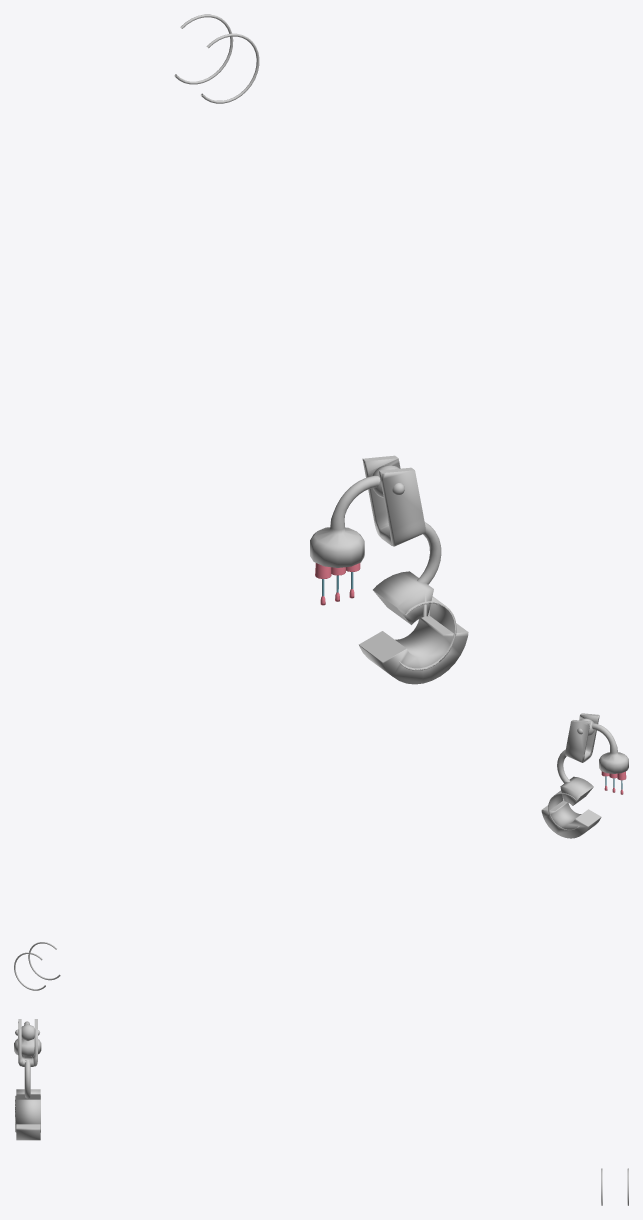
Rendered from oje_tool-3lu-vol2.obj.
3 views of the same model, one above another, from view 1: azimuth 30°, elevation 25°; view 2: azimuth 150°, elevation 25°; view 3: azimuth 270°, elevation 25° (orthographic). The views are drawn at different scales.
Visible parts, largest first — view 1: Circle.016_Red_Elementscart.001, Circle.016_shiny1; view 2: Circle.016_Red_Elementscart.001, Circle.016_shiny1; view 3: Circle.016_Red_Elementscart.001, Circle.016_shiny1.
Boxes of the visible parts, <box> form: Circle.016_Red_Elementscart.001: <box>310,455,468,684</box>; Circle.016_shiny1: <box>310,465,456,670</box>; Circle.016_Red_Elementscart.001: <box>541,713,628,838</box>; Circle.016_shiny1: <box>548,718,628,830</box>; Circle.016_Red_Elementscart.001: <box>14,1019,40,1140</box>; Circle.016_shiny1: <box>14,1021,41,1132</box>.
Size of the model in its own units: 89.45 by 35.91 by 183.
